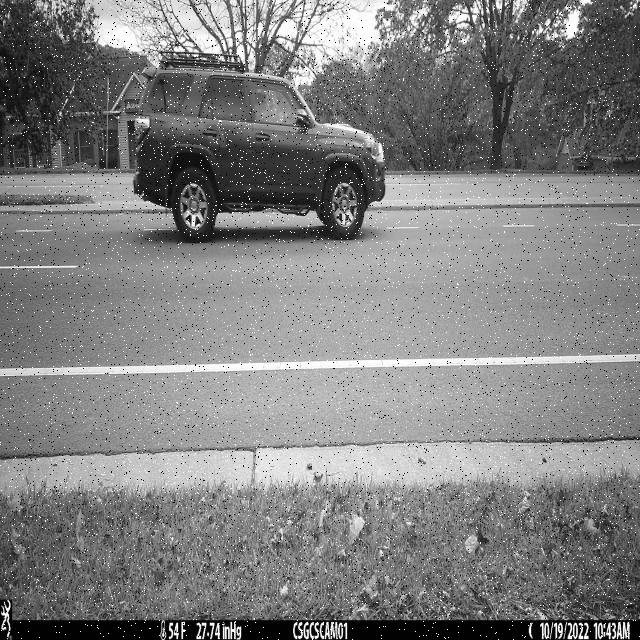SUV: (134, 52, 387, 244)
